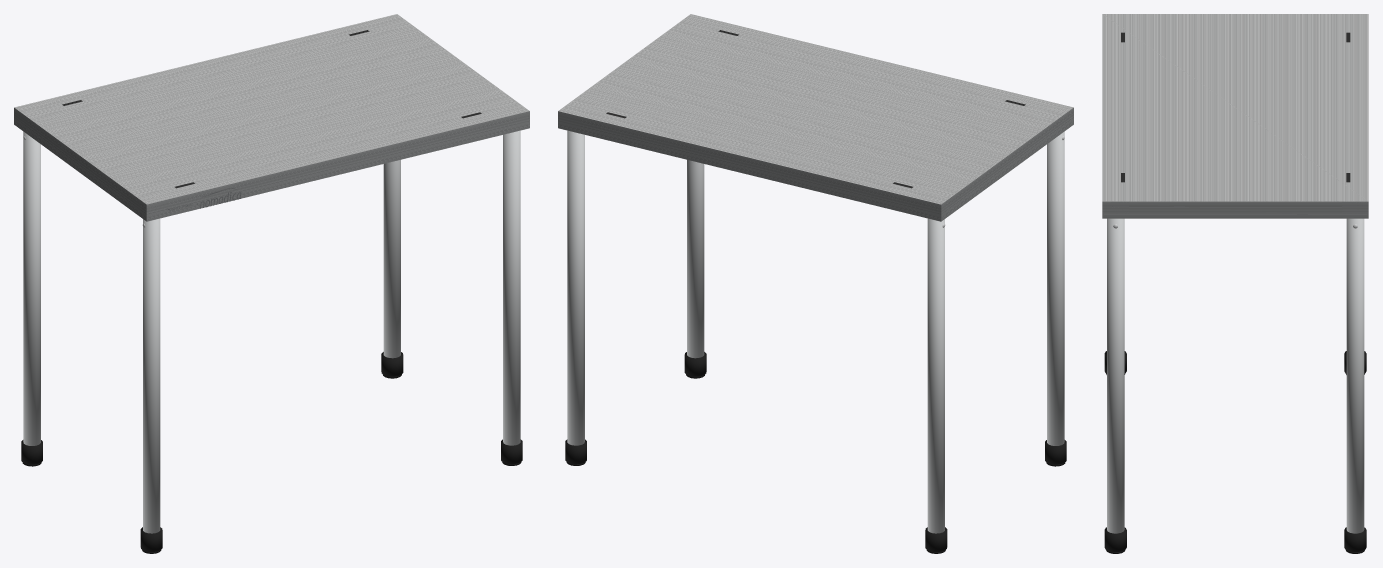
File: tentmark-table-bros-tall.glb
The picture shows the model from 3 angles, left to right: view 1: azimuth 30°, elevation 25°; view 2: azimuth 150°, elevation 25°; view 3: azimuth 270°, elevation 25°; orthographic projection.
Size of the model in its own units: 0.5 by 0.4402 by 0.3002.
Materials: 8 (2 with a texture image).
